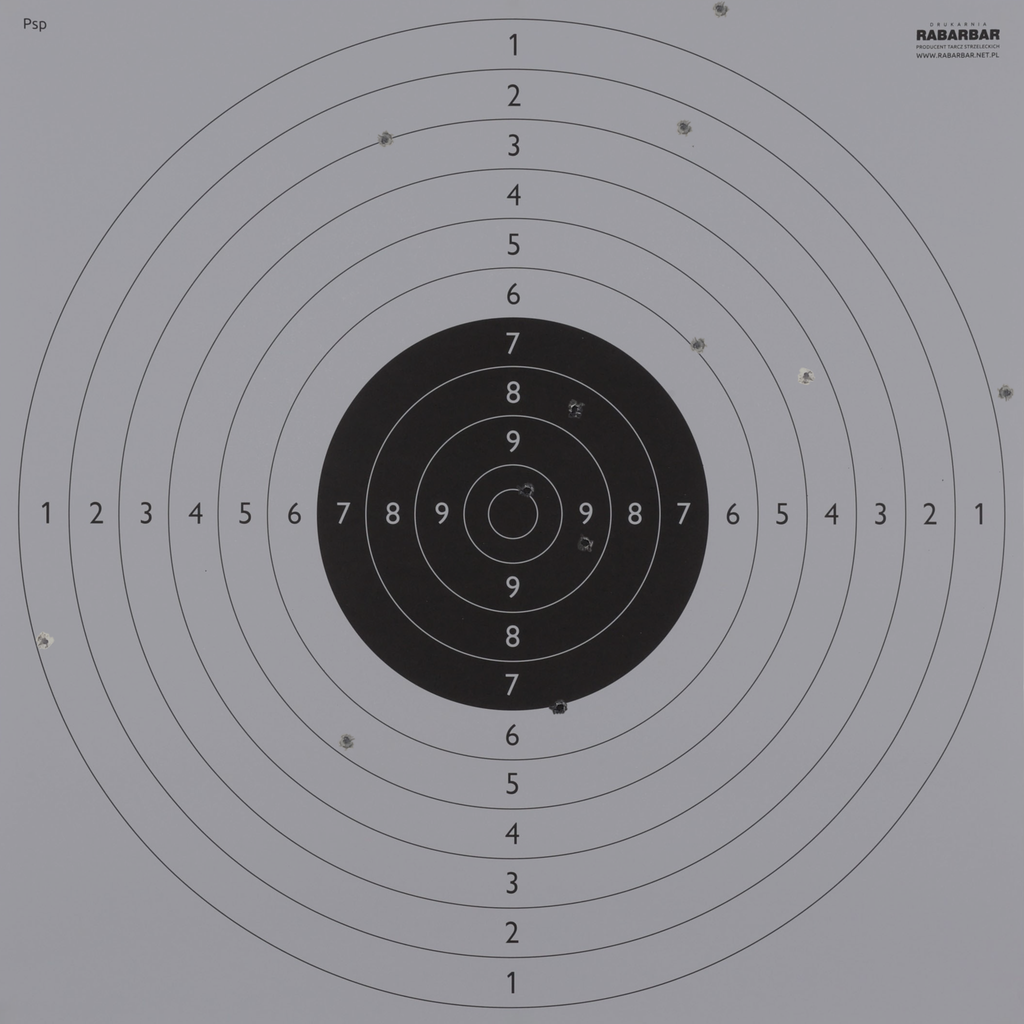0 punktow: (997, 384, 1016, 402)
1 punkt: (35, 632, 54, 651)
10 punktow: (517, 481, 536, 500)
2 punkty: (675, 118, 693, 136)
3 punkty: (376, 131, 394, 149)
4 punkty: (797, 367, 816, 385)
5 punktow: (337, 732, 356, 750)
6 punktow: (688, 336, 707, 355)
7 punktow: (550, 698, 569, 717)
8 punktow: (566, 400, 584, 419)
9 punktow: (576, 534, 595, 552)
